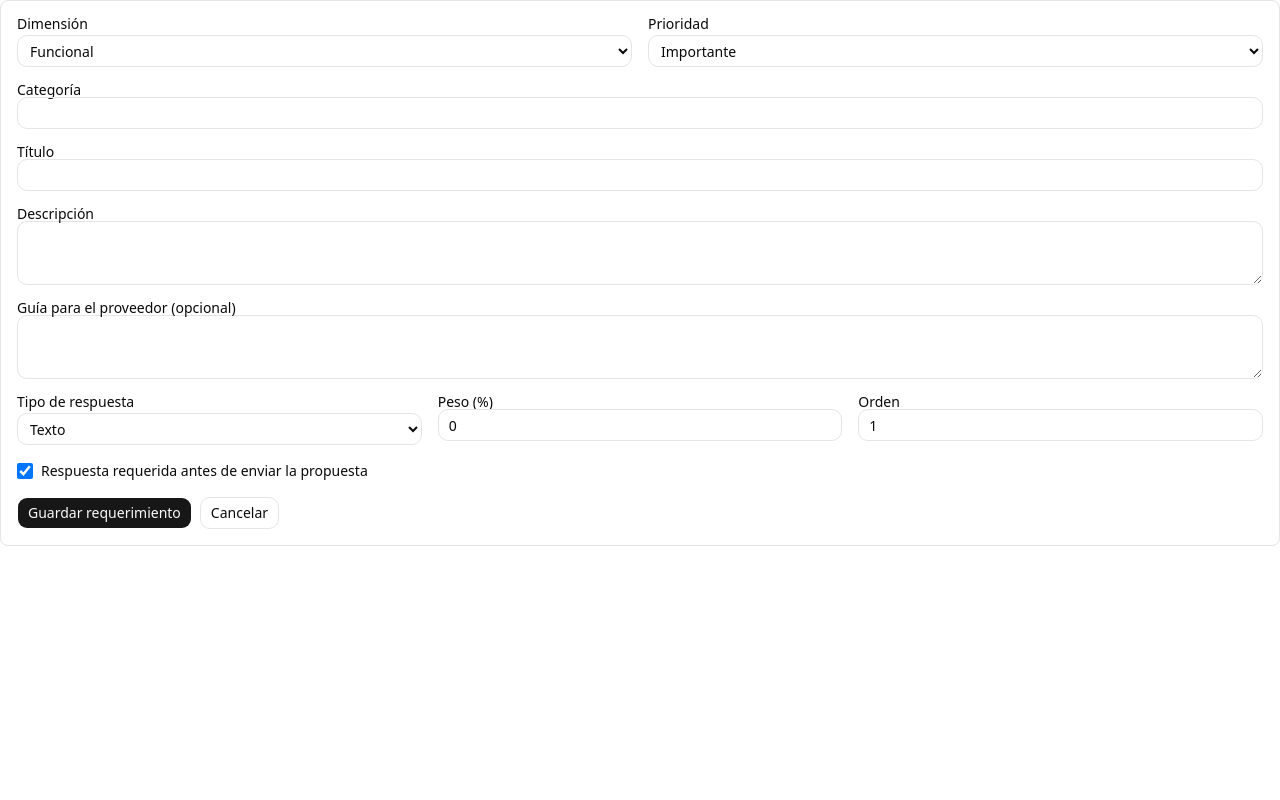
Scenario: RequirementForm › blocks submit with an inline error when single_choice has no options, mirroring the backend rule
Type "Core" into the field labelled "Categoría" at (640, 113), box [17,97,1263,129]
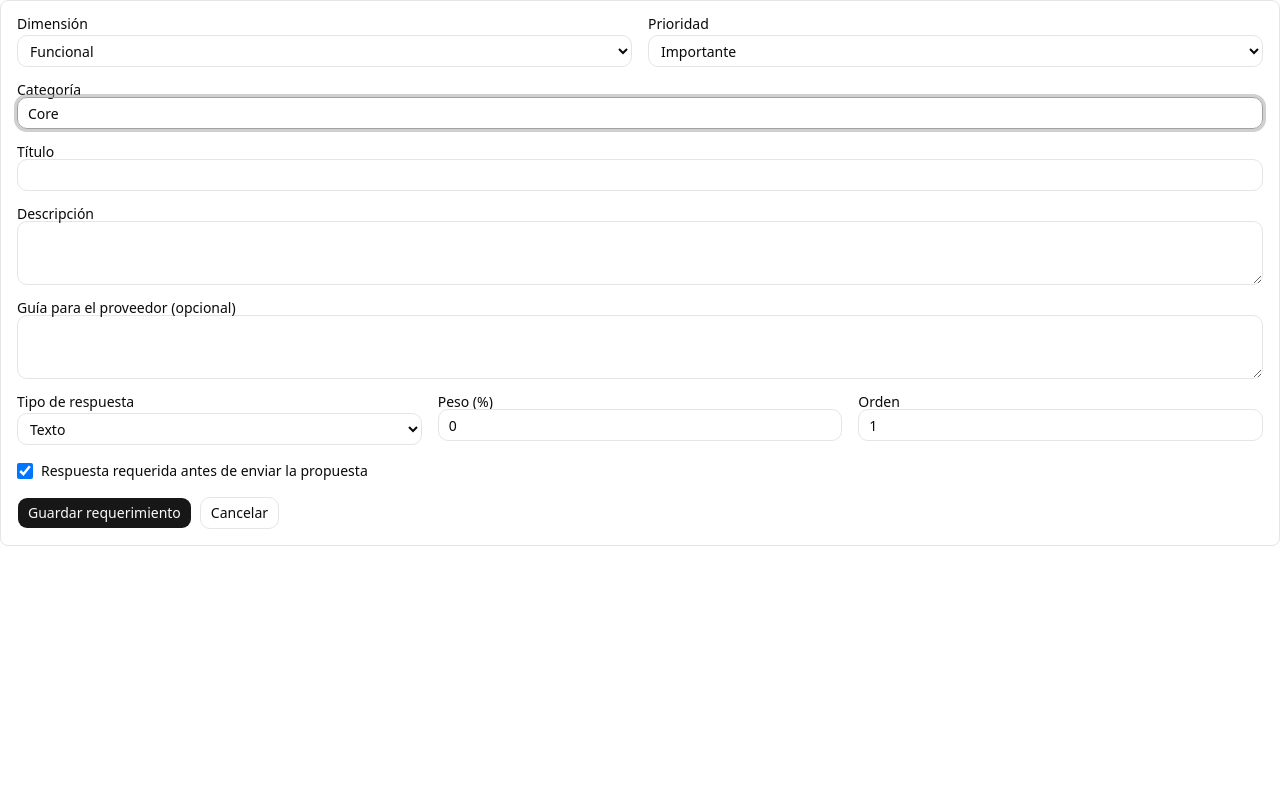
Type "Modelo de despliegue" into the field labelled "Título" at (640, 175), box [17,159,1263,191]
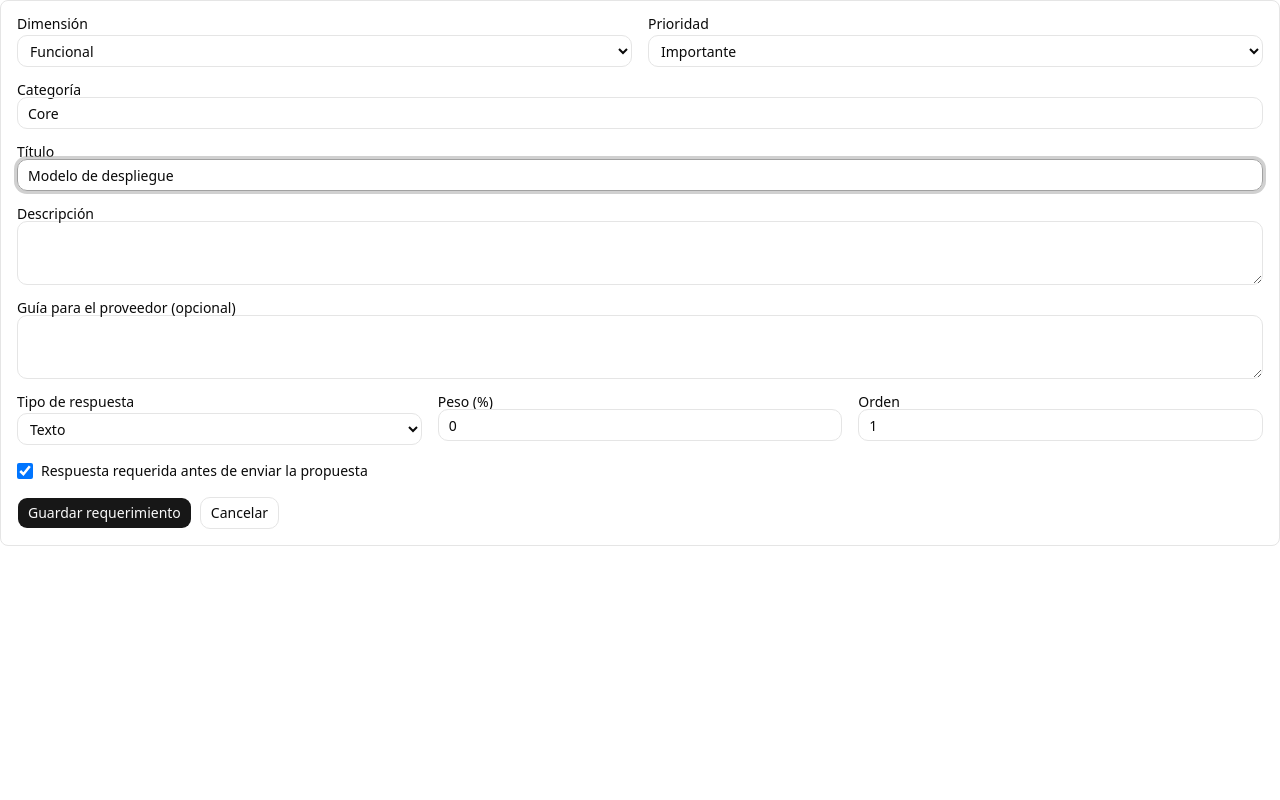
Type "Como se despliega la solución" into the text box labelled "Descripción" at (640, 253), box [17,221,1263,285]
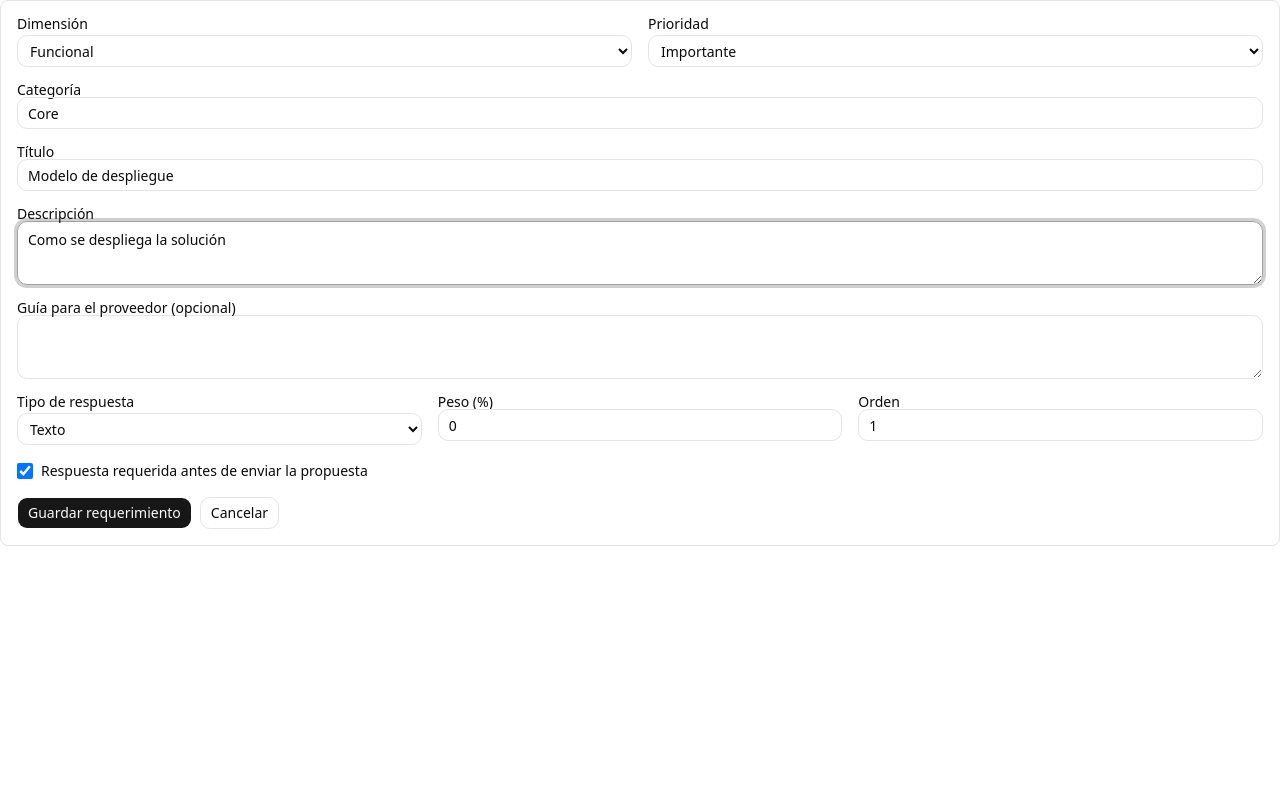
Select "Selección única" in the dropdown labelled "Tipo de respuesta" at (219, 429), box [17,413,422,445]
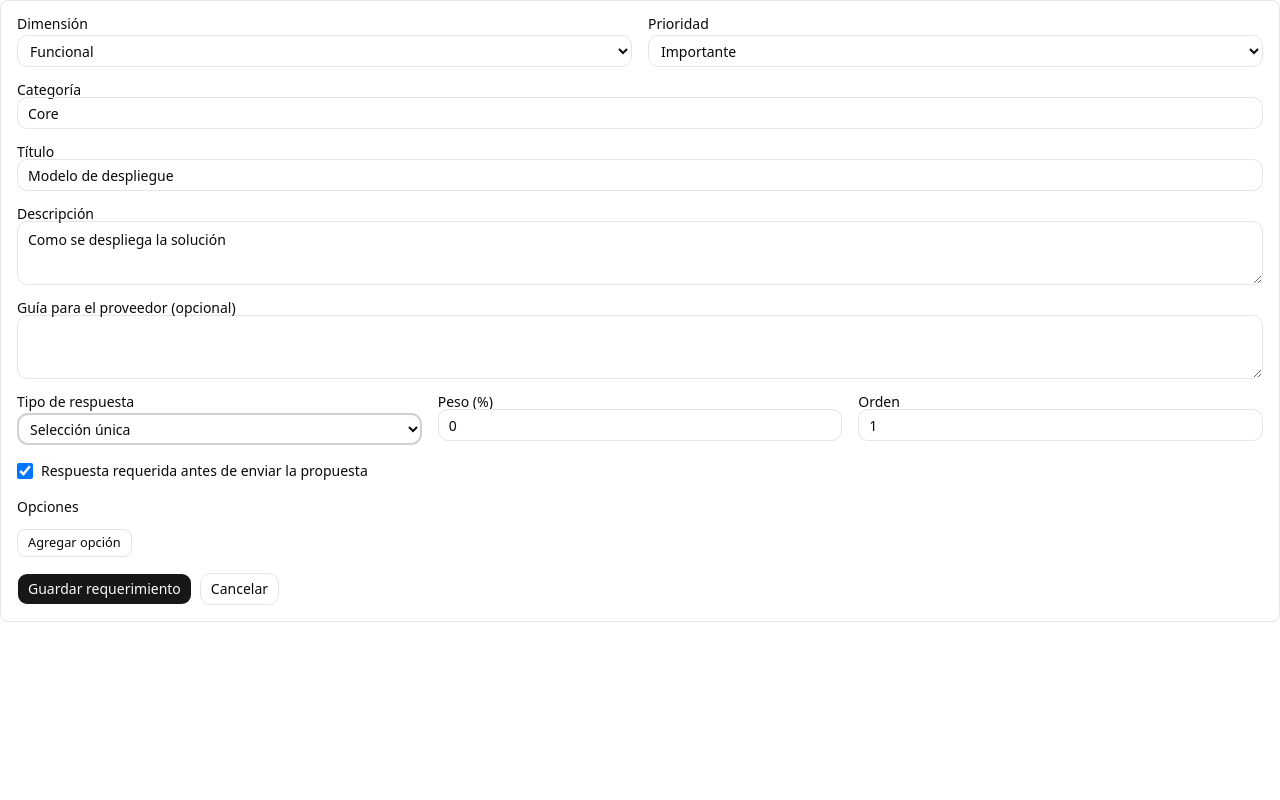
Click the button "Guardar requerimiento" at (104, 589), box [17,573,192,605]
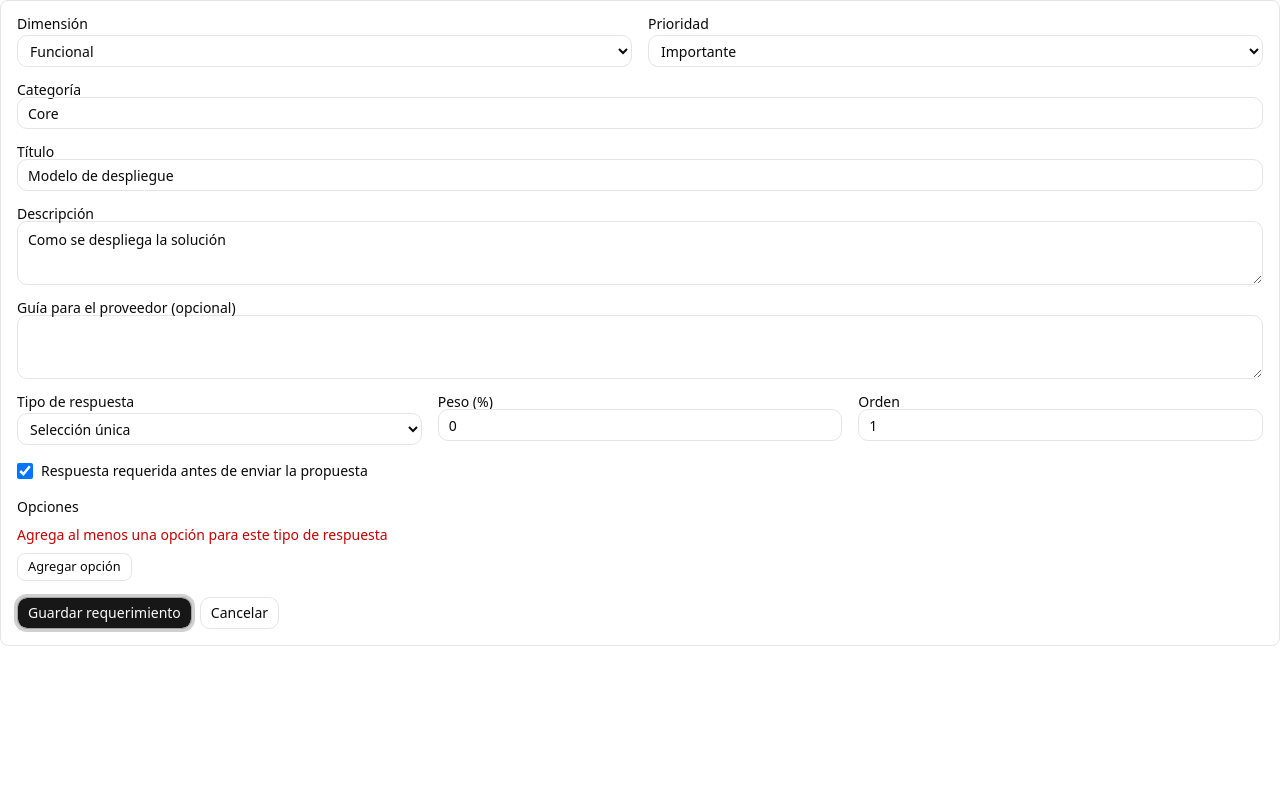
Check: the text "Agrega al menos una opción para este tipo de respuesta" is shown, box [17,525,388,544]
